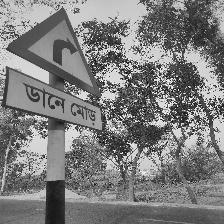Right-turn: (2, 6, 104, 136)
